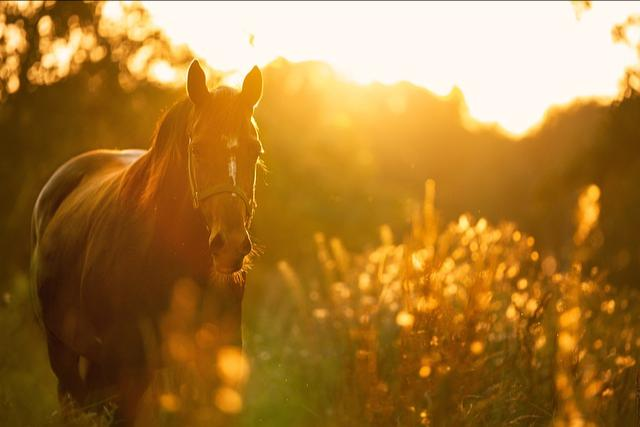Non_Gorille: (42, 32, 364, 411)
